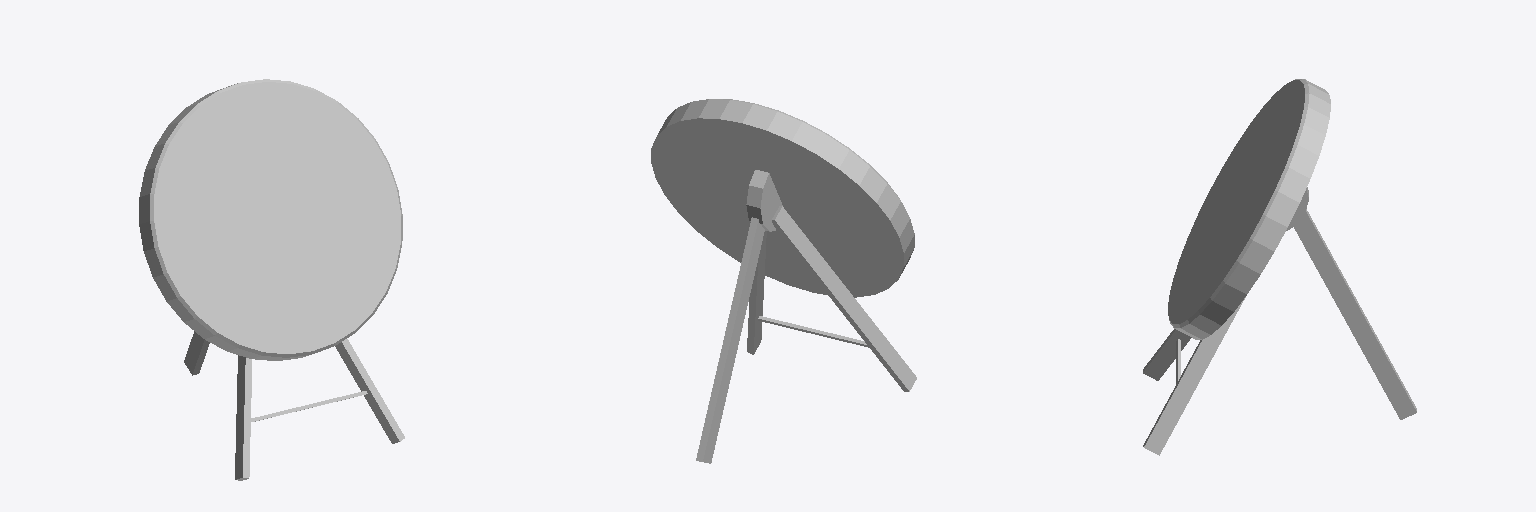
Rendered from target.obj.
The picture shows the model from 3 angles: view 1: azimuth 30°, elevation 25°; view 2: azimuth 150°, elevation 25°; view 3: azimuth 270°, elevation 25°; orthographic projection.
Parts seen in each view (by area): view 1: Circle; view 2: Circle; view 3: Circle.
Boxes of the visible parts, x1,y1,x2,y2 form: Circle: [139, 79, 404, 480]; Circle: [651, 99, 916, 463]; Circle: [1143, 79, 1416, 455].
Size of the model in its own units: 1.57 by 2 by 1.53.